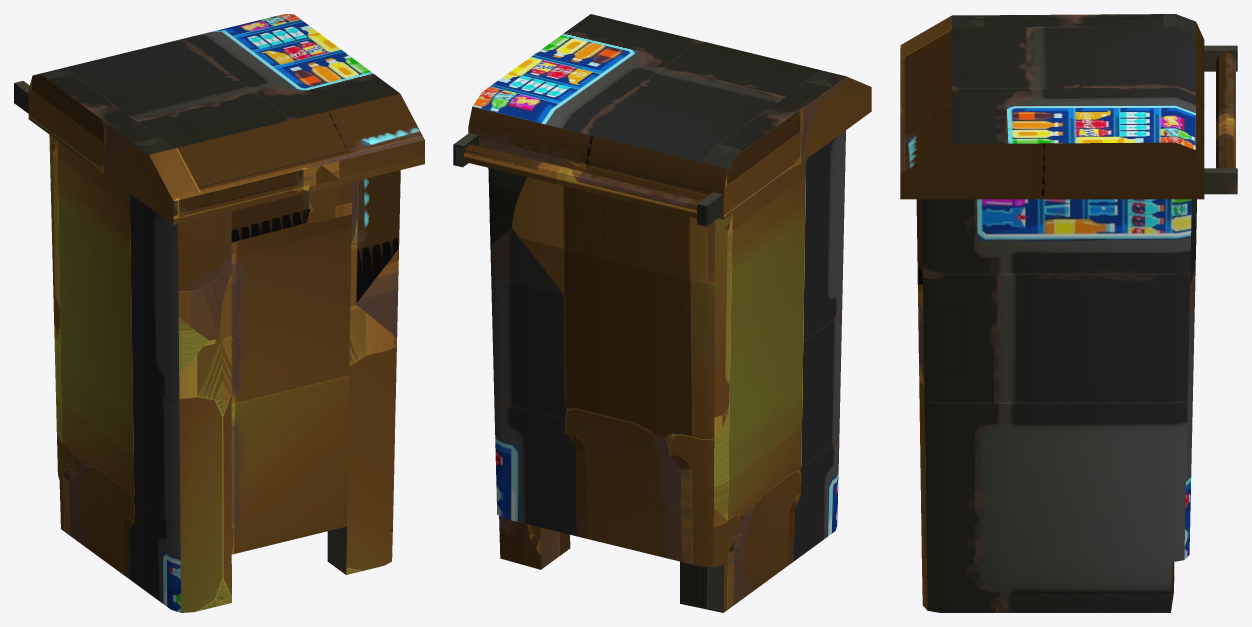
The model's file is small_trash_box1.fbx.
The picture shows the model from 3 angles, left to right: view 1: azimuth 30°, elevation 25°; view 2: azimuth 150°, elevation 25°; view 3: azimuth 270°, elevation 25°; orthographic projection. The views are drawn at different scales.
Visible parts, largest first — view 1: trash_box_small; view 2: trash_box_small; view 3: trash_box_small.
Boxes of the visible parts, left/top/right/bottom form: trash_box_small: left=14, top=14, right=424, bottom=612; trash_box_small: left=453, top=14, right=871, bottom=612; trash_box_small: left=900, top=14, right=1237, bottom=612.
Bounding box in the file's own units: 67.57 × 117 × 74.97.
